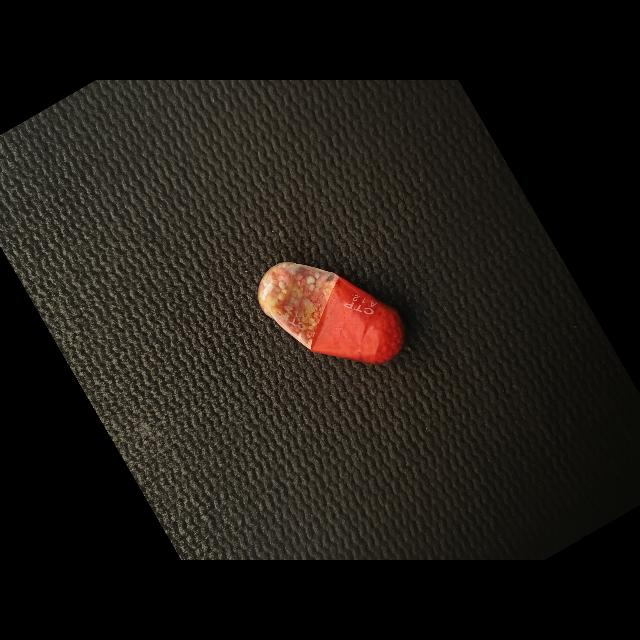Defective Capsule: (258, 262, 405, 365)
